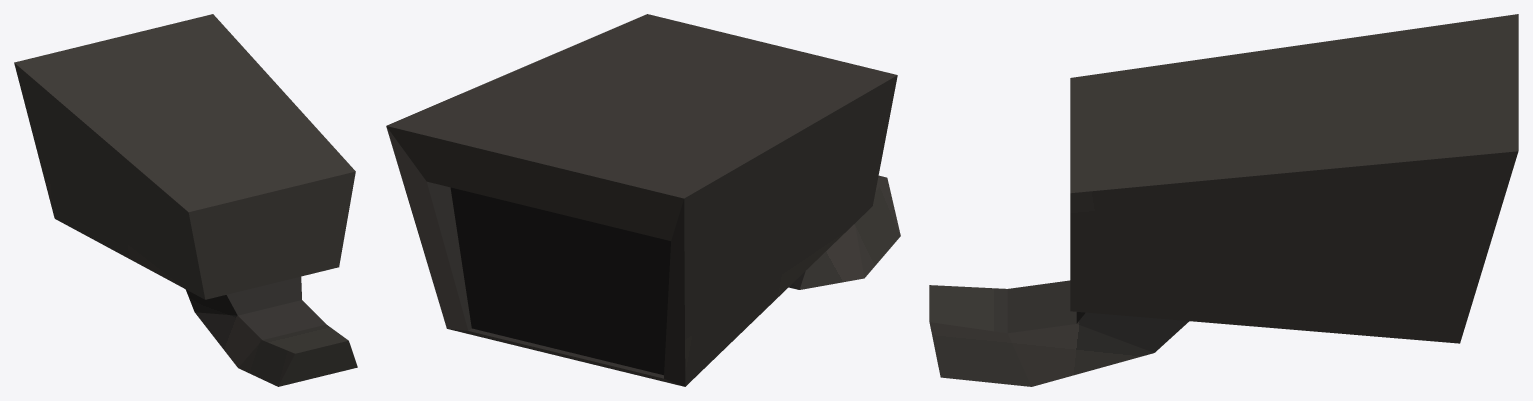
File: camera_f.fbx
3 renders of one model, left to right at view 1: azimuth 30°, elevation 25°; view 2: azimuth 150°, elevation 25°; view 3: azimuth 270°, elevation 25°, orthographic. The views are drawn at different scales.
Parts seen in each view (by area): view 1: cuboid; view 2: cuboid; view 3: cuboid.
Part boxes in pixels (x1,y1,x2,y2): cuboid: [14, 14, 357, 386]; cuboid: [386, 14, 900, 386]; cuboid: [929, 14, 1518, 386].
Size of the model in its own units: 15.62 by 14.4 by 28.34.
1 material, 1 textured.
